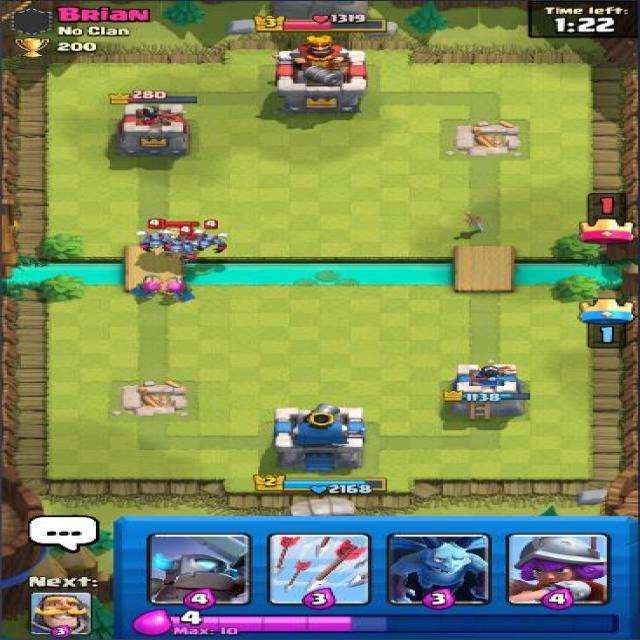Enemy-Minion: (136, 218, 180, 254), (155, 226, 204, 258), (192, 218, 232, 255)
Player-Archer: (157, 275, 199, 304), (127, 273, 164, 302)
